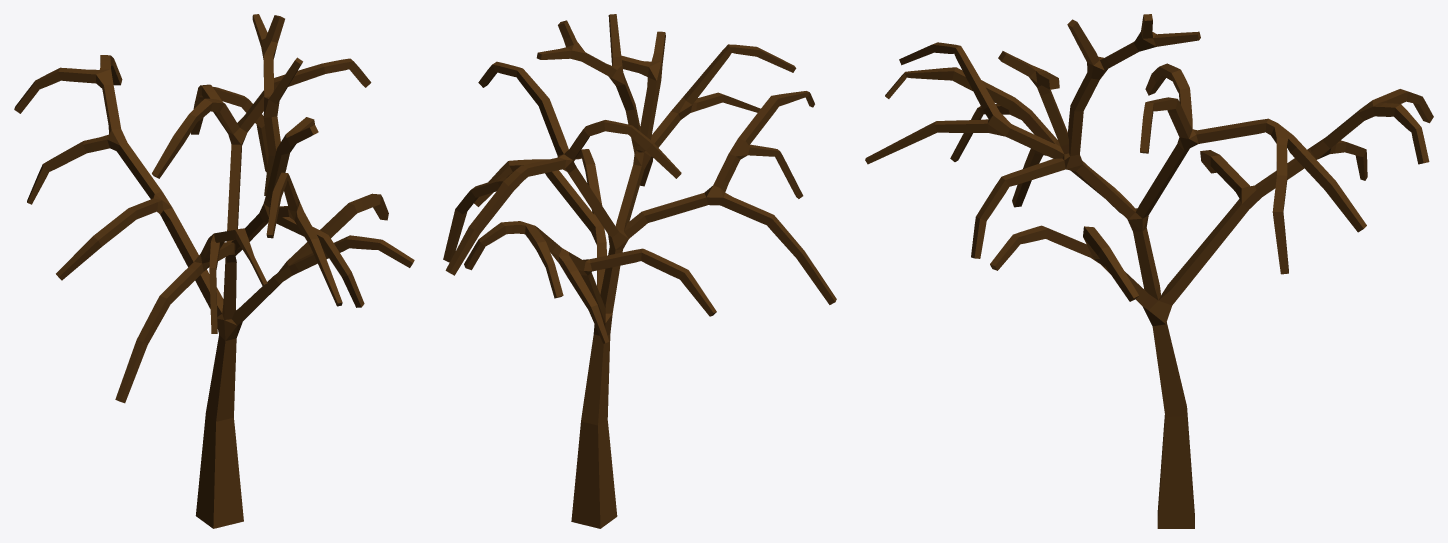
The model's file is tree03.glb.
The picture shows the model from 3 angles, left to right: view 1: azimuth 30°, elevation 25°; view 2: azimuth 150°, elevation 25°; view 3: azimuth 270°, elevation 25°; orthographic projection. The views are drawn at different scales.
Parts seen in each view (by area): view 1: Cube; view 2: Cube; view 3: Cube.
Boxes of the visible parts, left/top/right/bottom form: Cube: left=14, top=14, right=414, bottom=528; Cube: left=443, top=14, right=836, bottom=528; Cube: left=865, top=14, right=1433, bottom=528.
Bounding box in the file's own units: 2.61 × 3.82 × 3.72.
